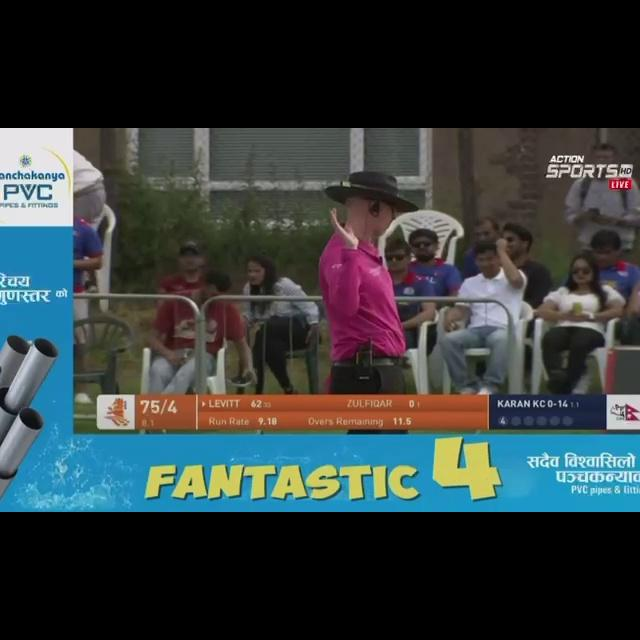umpire: (265, 144, 469, 394)
